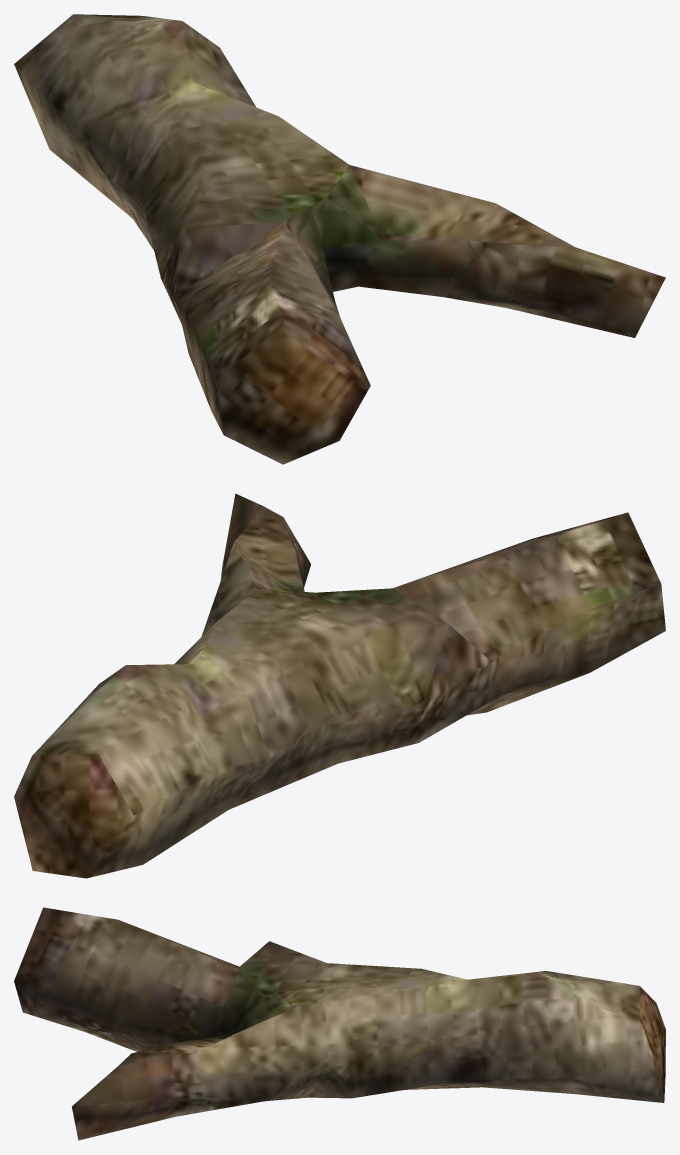
3 renders of one model, top to bottom at view 1: azimuth 30°, elevation 25°; view 2: azimuth 150°, elevation 25°; view 3: azimuth 270°, elevation 25°, orthographic. The views are drawn at different scales.
Parts seen in each view (by area): view 1: stick06_lod4; view 2: stick06_lod4; view 3: stick06_lod4.
Part boxes in pixels (<box>): stick06_lod4: <box>14,14,665,464</box>; stick06_lod4: <box>14,493,665,878</box>; stick06_lod4: <box>14,907,665,1140</box>.
Size of the model in its own units: 94.2 by 37.56 by 153.
Materials: 1 (1 with a texture image).
